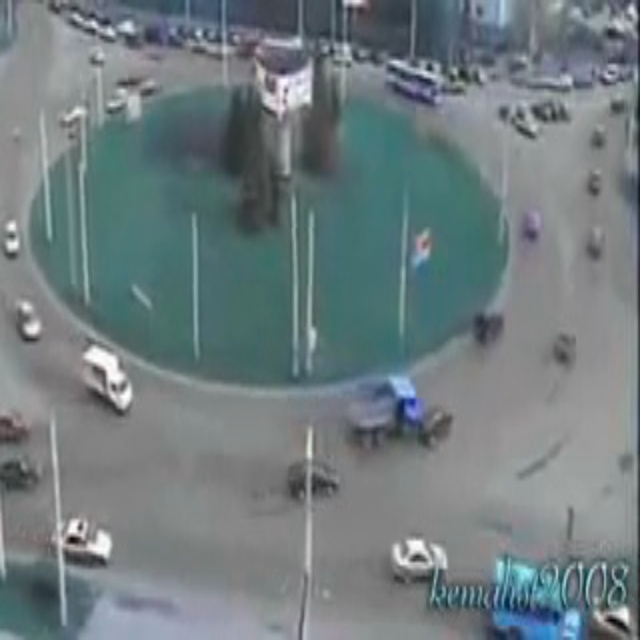acc: (337, 375, 455, 454)
